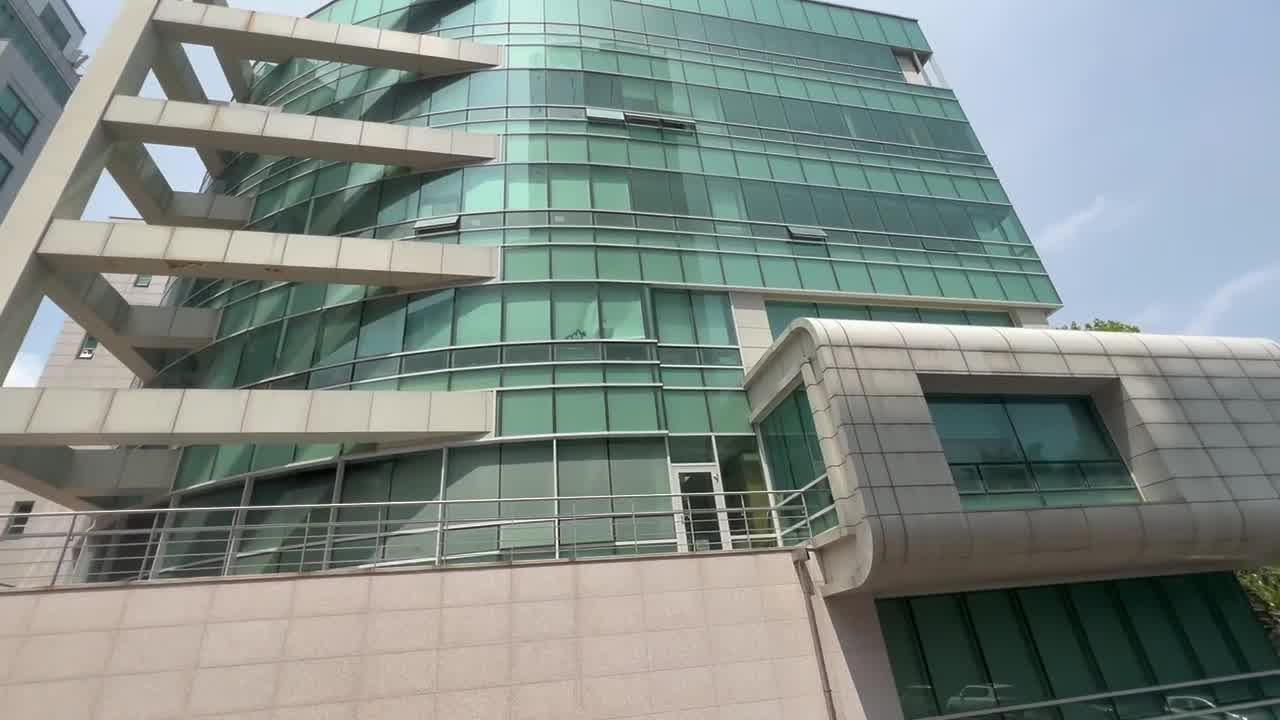building: (69, 12, 1280, 702)
